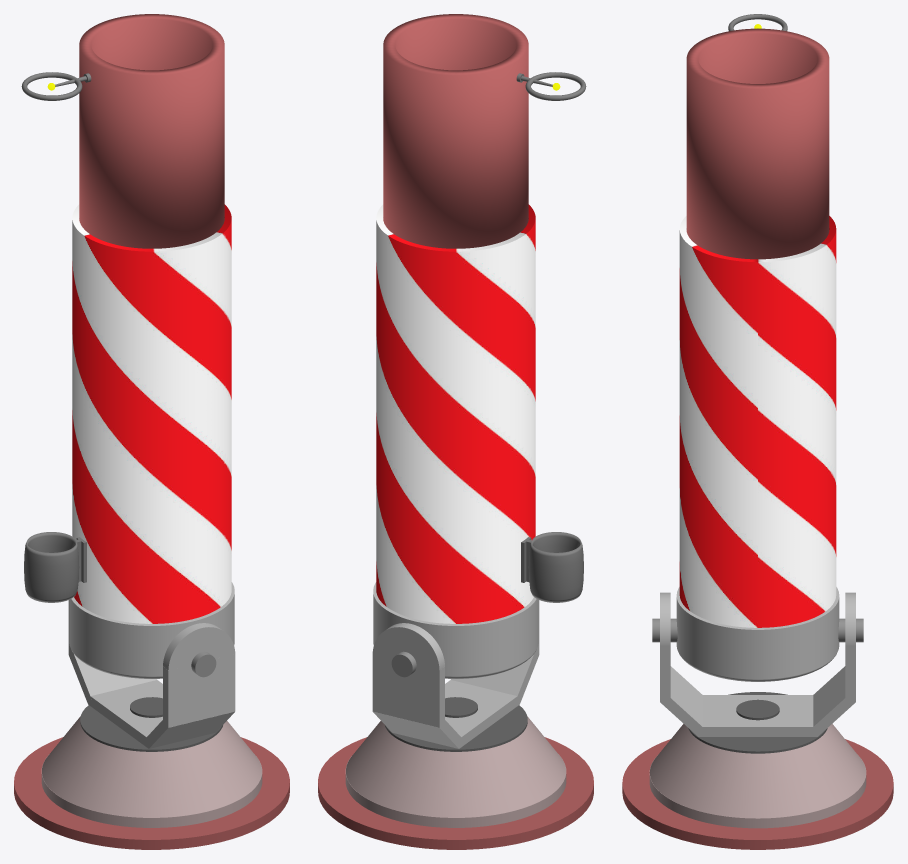
Rendered from pongCannon.gltf.
The picture shows the model from 3 angles, left to right: view 1: azimuth 30°, elevation 25°; view 2: azimuth 150°, elevation 25°; view 3: azimuth 270°, elevation 25°; orthographic projection.
Visible parts, largest first — view 1: outerBarrel, innerBarrel, baseCone, basePlate, breech, bracketSide1bottom, rearPeep, baseCone_1, bracketBottom, bracketSide1Top_1, baseBushing, bracketSide1bottomAngle_1 (+3 smaller); view 2: outerBarrel, innerBarrel, baseCone, basePlate, breech, rearPeep, bracketSide1Top, bracketSide1bottom_1, baseCone_1, bracketBottom, baseBushing, bracketSide1bottomAngle (+3 smaller); view 3: outerBarrel, innerBarrel, baseCone, basePlate, breech, bracketBottom, baseCone_1, baseBushing, bracketSide1bottomAngle_1, bracketSide1bottomAngle, axle, basePivot (+4 smaller).
Boxes of the visible parts, x1,y1,x2,y2 form: outerBarrel: (72,204,231,623); innerBarrel: (79,14,224,248); baseCone: (42,716,261,817); basePlate: (14,737,289,849); breech: (69,582,234,676); bracketSide1bottom: (163,654,235,727); rearPeep: (24,532,79,602); baseCone_1: (41,754,262,827); bracketBottom: (88,680,162,748); bracketSide1Top_1: (163,623,235,670); baseBushing: (80,705,222,751); bracketSide1bottomAngle_1: (145,711,234,748); outerBarrel: (376,204,535,623); innerBarrel: (383,14,528,248); baseCone: (346,716,565,817); basePlate: (318,737,593,849); breech: (373,582,538,676); rearPeep: (528,532,583,602); bracketSide1Top: (372,623,444,698); bracketSide1bottom_1: (372,654,444,727); baseCone_1: (345,754,566,827); bracketBottom: (445,680,519,748); baseBushing: (385,705,527,751); bracketSide1bottomAngle: (373,711,462,748); outerBarrel: (679,216,836,627); innerBarrel: (686,28,829,259); baseCone: (649,724,866,818); basePlate: (622,739,893,849); breech: (676,587,839,679); bracketBottom: (698,695,817,736); baseCone_1: (649,755,866,828); baseBushing: (688,692,827,753); bracketSide1bottomAngle_1: (660,666,702,736); bracketSide1bottomAngle: (813,666,855,736); axle: (652,618,863,642); basePivot: (736,699,779,720).
Bounding box in the file's own units: 5.14 × 14.93 × 5.
18 materials, 1 textured.
